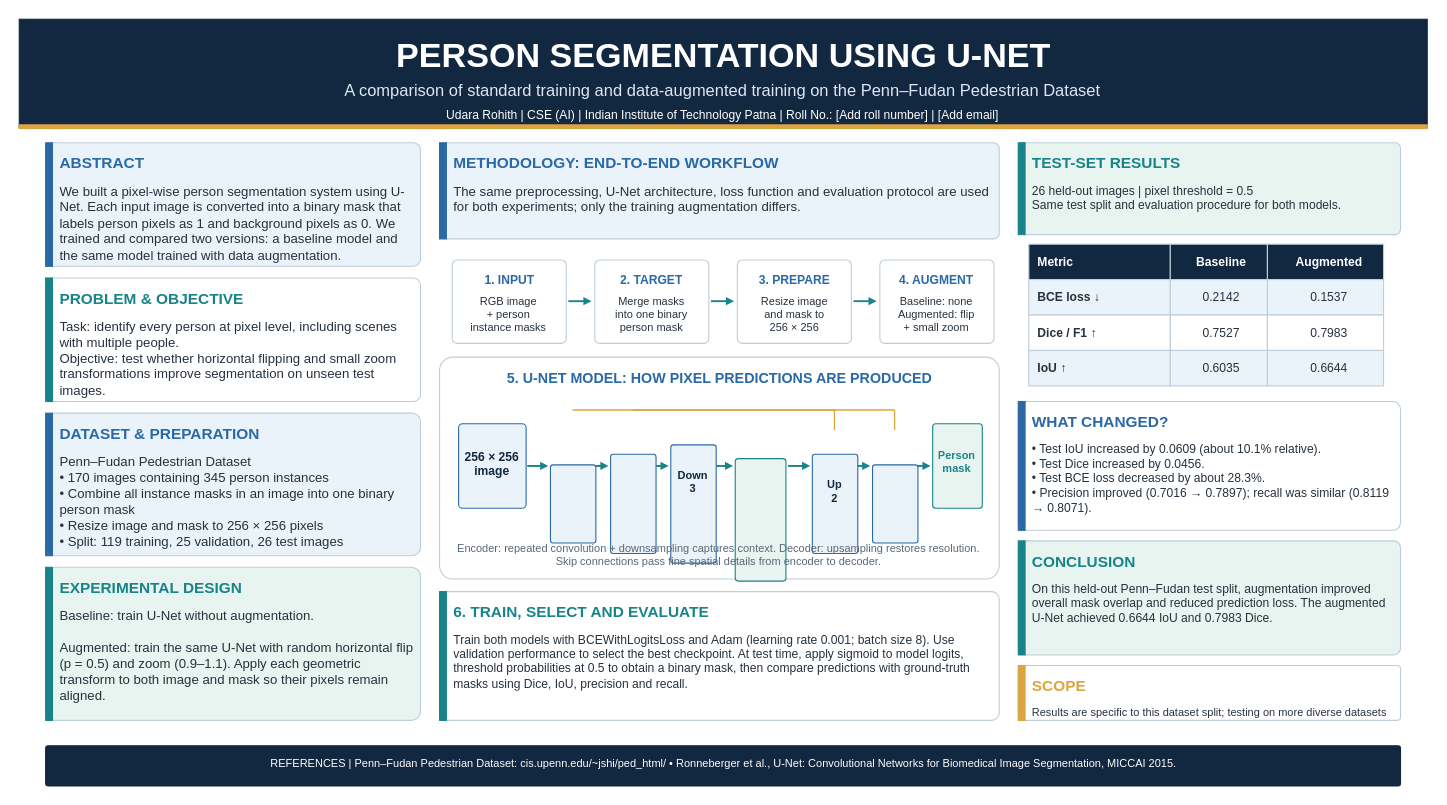
The diagram is 1447 pixels wide and 805 high, and some of its shapes have lost their labels. The shapes that lost their labels are listed below. From the top down, each one's box as (x1, y1, x2, y2) in pixels, then its label:
(549, 464, 596, 543): Down 1
(610, 453, 656, 554): Down 2
(734, 457, 786, 581): Deep features
(871, 464, 918, 543): Up 1
